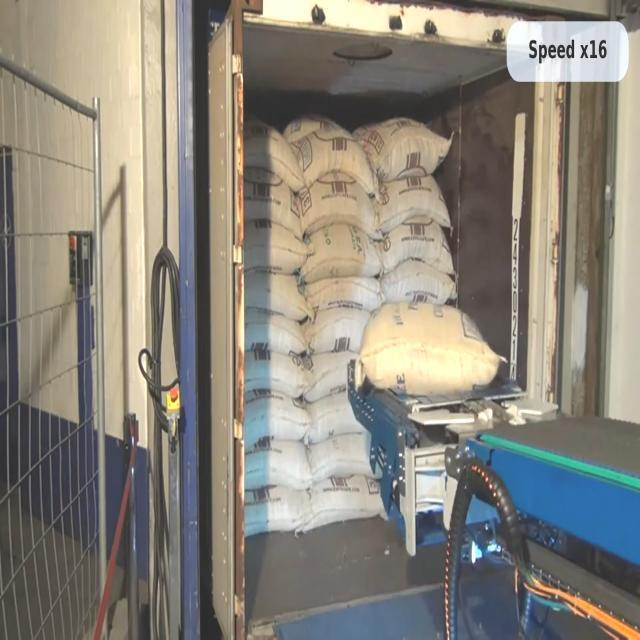gunny_bag: (359, 302, 502, 395), (353, 116, 452, 180), (291, 126, 377, 193), (300, 171, 381, 238), (301, 223, 382, 282), (373, 175, 452, 233), (244, 119, 306, 191), (379, 219, 455, 274), (244, 166, 302, 238), (307, 430, 382, 482), (244, 393, 311, 451), (244, 219, 313, 273), (381, 258, 457, 304), (245, 270, 314, 320), (244, 486, 311, 537), (245, 440, 312, 490), (301, 307, 371, 353), (305, 391, 365, 444), (245, 308, 308, 354), (303, 350, 357, 402), (304, 276, 382, 311)
